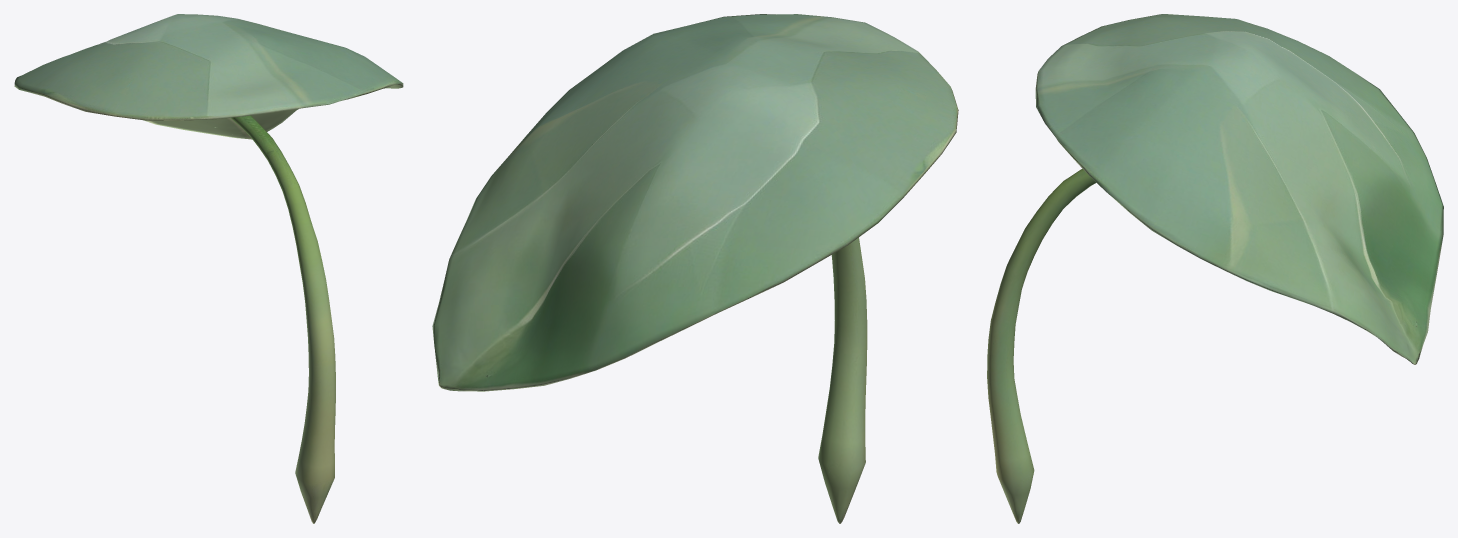
The model's file is monstera_leaf_young_albo.glb.
3 views of the same model, side by side, from view 1: azimuth 30°, elevation 25°; view 2: azimuth 150°, elevation 25°; view 3: azimuth 270°, elevation 25° (orthographic). The views are drawn at different scales.
Bounding box in the file's own units: 1.63 × 2 × 1.8.
Materials: 1 (1 with a texture image).
